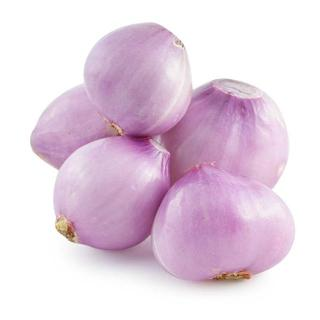Bawang Merah: (150, 163, 298, 285), (51, 135, 175, 255), (79, 20, 195, 140)
